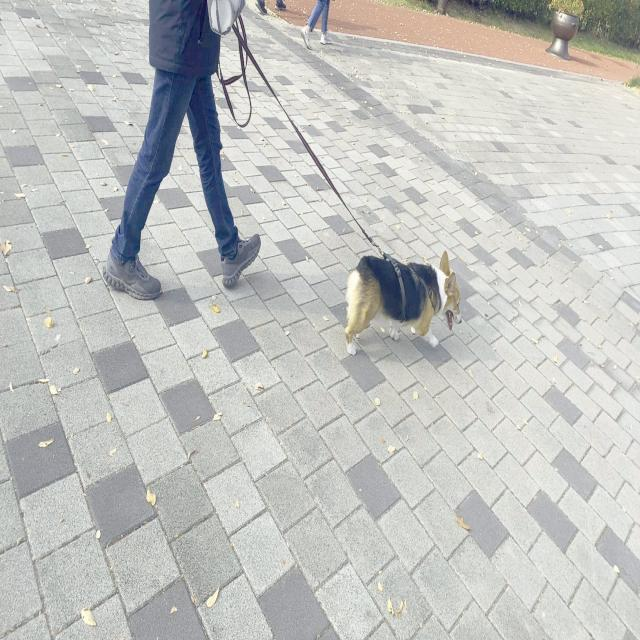Leashed_Dog: (191, 0, 462, 359)
